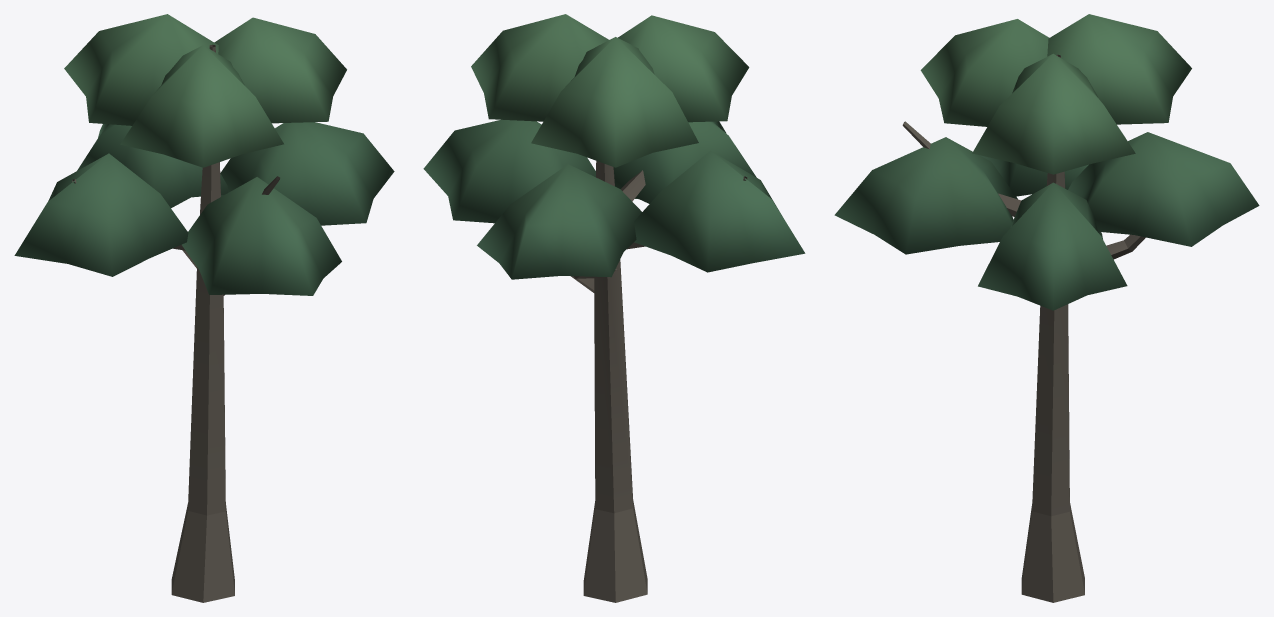
Rendered from tree-broadleaf-1.glb.
The picture shows the model from 3 angles, left to right: view 1: azimuth 30°, elevation 25°; view 2: azimuth 150°, elevation 25°; view 3: azimuth 270°, elevation 25°; orthographic projection.
Visible parts, largest first — view 1: wood, leaves.003, leaves.002, leaves.006, leaves, leaves.005, leaves.004, leaves.001; view 2: wood, leaves.005, leaves.001, leaves.002, leaves, leaves.004, leaves.006, leaves.003; view 3: leaves.003, leaves.001, wood, leaves.004, leaves, leaves.005, leaves.006, leaves.002.
Part boxes in pixels (box(x1,y1,x2,y2)): wood: box(171, 44, 234, 602); leaves.003: box(182, 177, 341, 295); leaves.002: box(14, 153, 188, 276); leaves.006: box(120, 45, 283, 167); leaves: box(220, 122, 394, 225); leaves.005: box(64, 14, 218, 125); leaves.004: box(214, 17, 346, 123); leaves.001: box(77, 124, 227, 207); wood: box(583, 161, 647, 602); leaves.005: box(531, 37, 698, 167); leaves.001: box(477, 164, 641, 279); leaves.002: box(634, 150, 805, 272); leaves: box(423, 119, 595, 223); leaves.004: box(471, 14, 608, 121); leaves.006: box(618, 15, 749, 122); leaves.003: box(613, 121, 756, 203); leaves.003: box(834, 137, 1017, 254); leaves.001: box(1068, 132, 1259, 246); wood: box(1021, 54, 1084, 602); leaves.004: box(972, 53, 1135, 174); leaves: box(978, 182, 1127, 310); leaves.005: box(1047, 14, 1191, 124); leaves.006: box(920, 19, 1049, 126); leaves.002: box(980, 155, 1088, 196).
Bounding box in the file's own units: 5.86 × 8.34 × 5.69.
